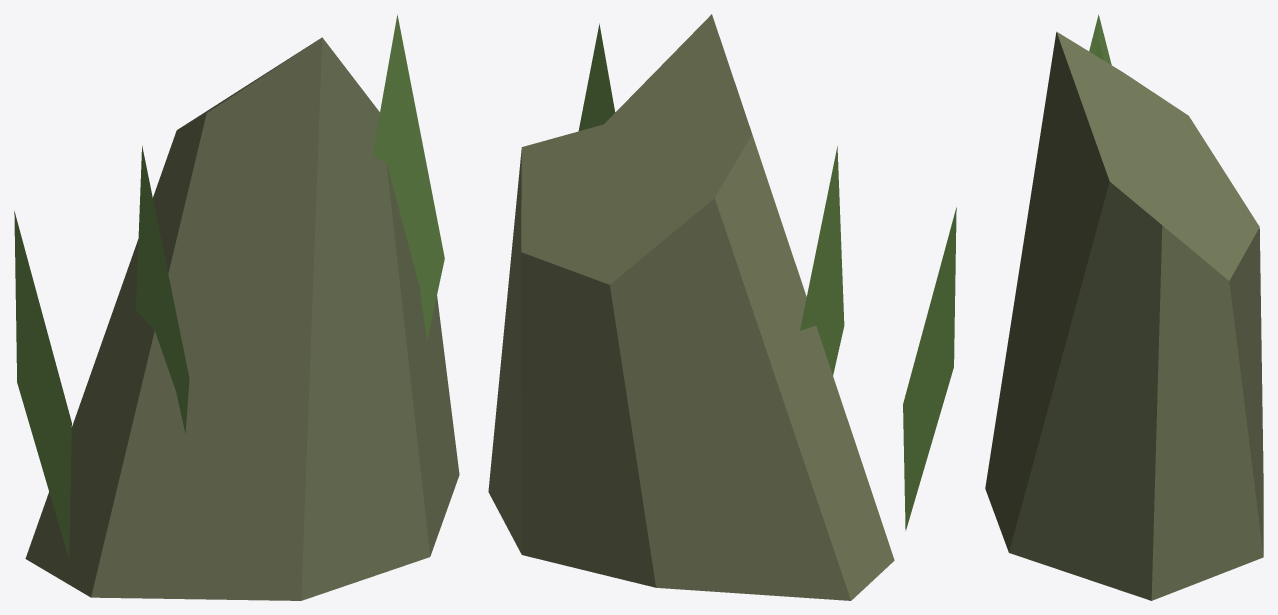
File: map-boundaries-v5__meadow_11.glb
3 renders of one model, left to right at view 1: azimuth 30°, elevation 25°; view 2: azimuth 150°, elevation 25°; view 3: azimuth 270°, elevation 25°, orthographic. The views are drawn at different scales.
Visible parts, largest first — view 1: meadow_11; view 2: meadow_11; view 3: meadow_11.
Part boxes in pixels (x1,y1,x2,y2): meadow_11: (14, 14, 459, 600); meadow_11: (488, 14, 956, 600); meadow_11: (985, 14, 1263, 600).
Size of the model in its own units: 1.3 by 1.37 by 0.712.
